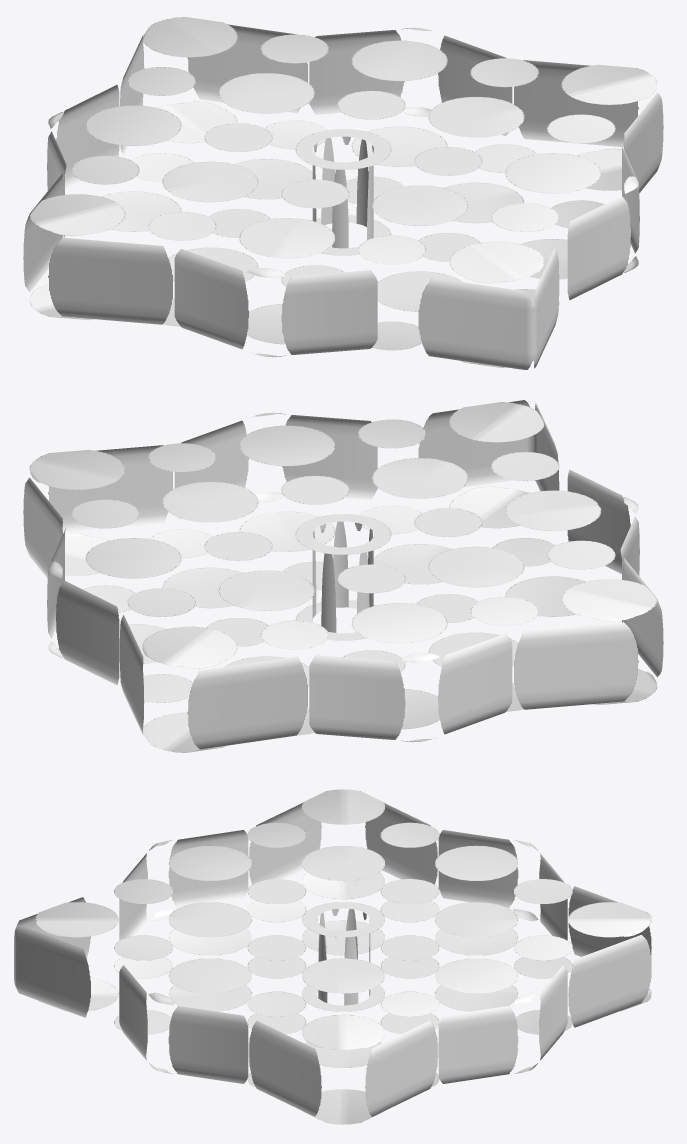
The picture shows the model from 3 angles, top to bottom: view 1: azimuth 30°, elevation 25°; view 2: azimuth 150°, elevation 25°; view 3: azimuth 270°, elevation 25°; orthographic projection. The views are drawn at different scales.
Parts seen in each view (by area): view 1: Chakra.008; view 2: Chakra.008; view 3: Chakra.008.
Part boxes in pixels (x1=…): Chakra.008: x1=23, y1=17, x2=663, y2=369; Chakra.008: x1=23, y1=400, x2=663, y2=752; Chakra.008: x1=14, y1=789, x2=651, y2=1124.
Bounding box in the file's own units: 575 × 71.66 × 575.
